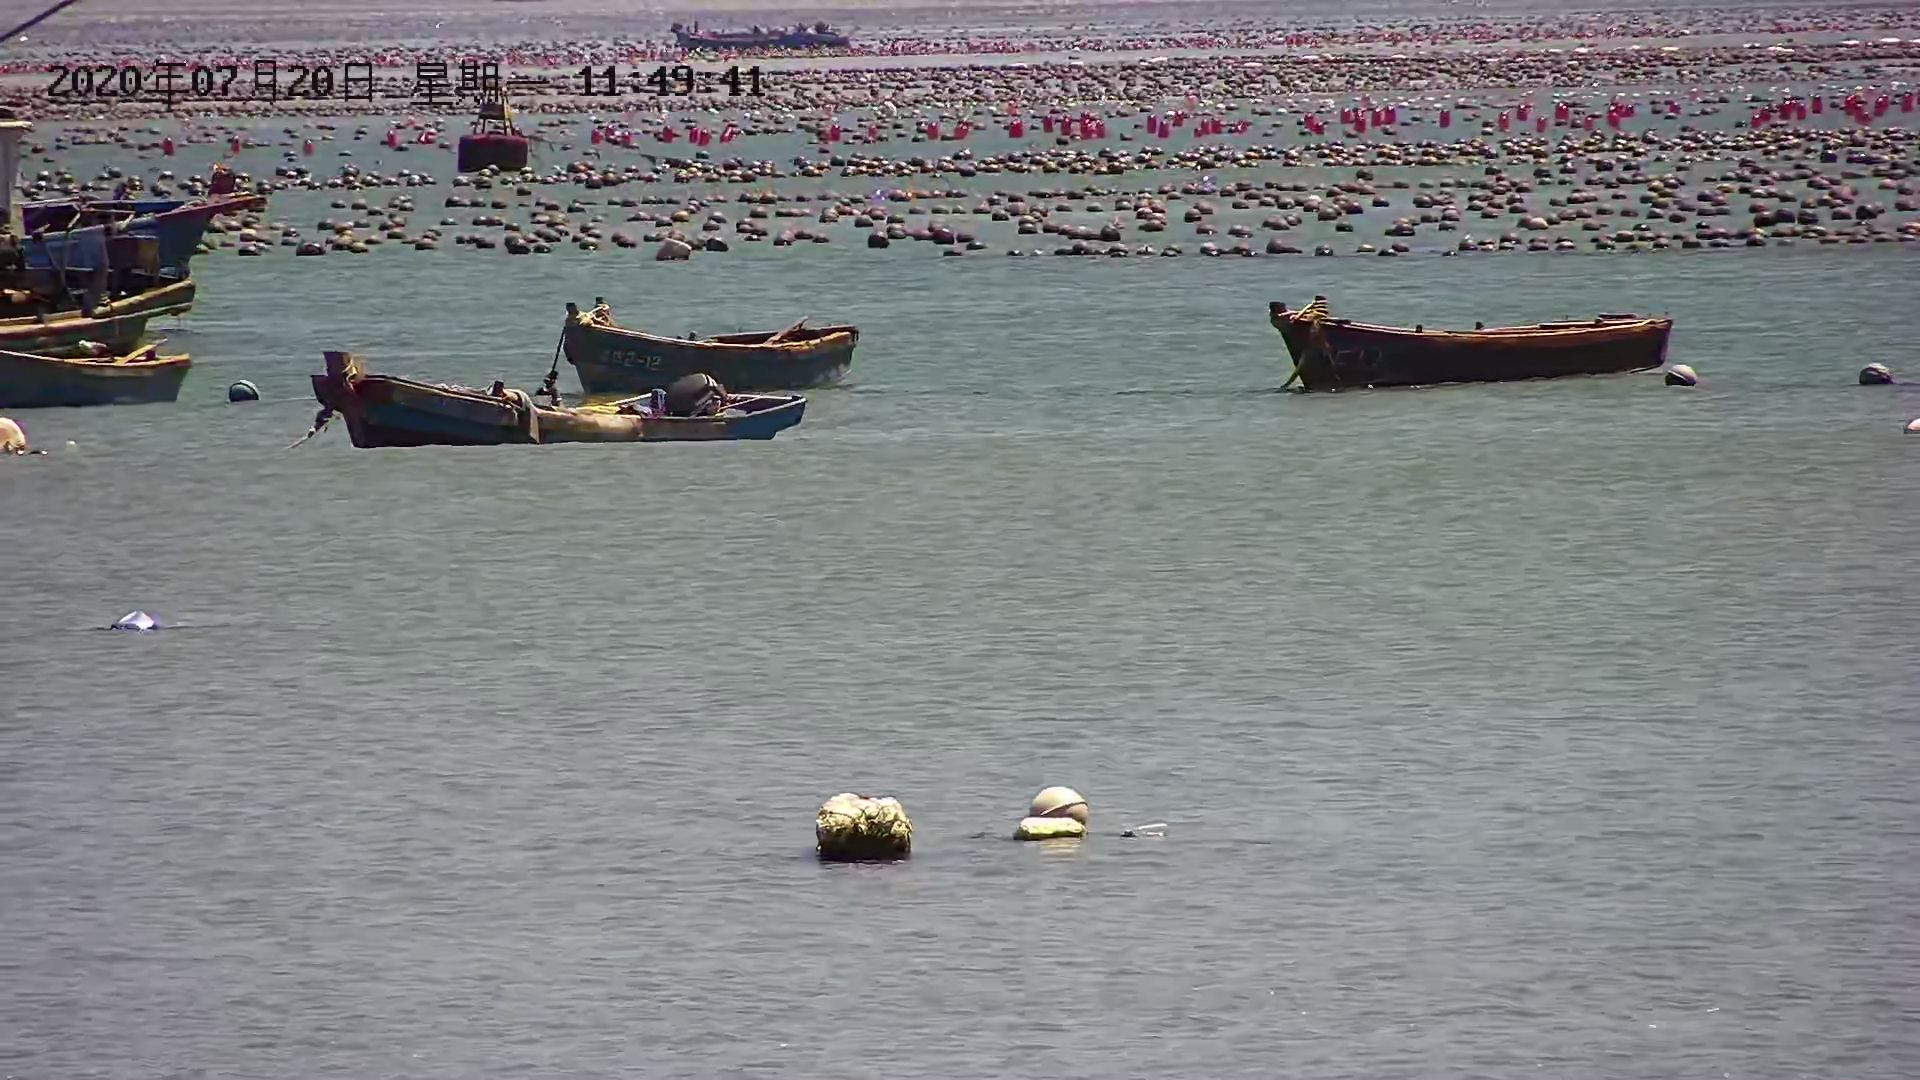ball: (1014, 773, 1101, 841), (222, 378, 272, 407), (1851, 363, 1899, 386), (1660, 364, 1697, 388)
boat: (1, 183, 262, 444), (286, 351, 822, 448), (1262, 287, 1677, 409), (555, 305, 882, 401)
rubbish: (811, 791, 926, 868)
